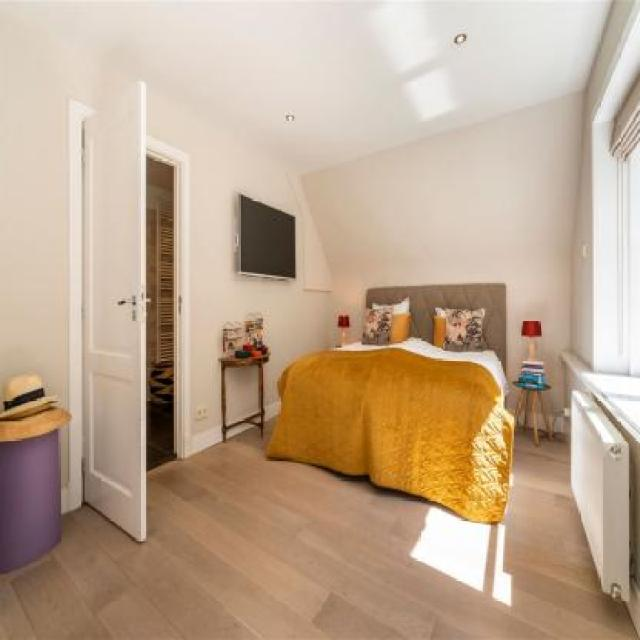floor: (2, 432, 638, 640)
